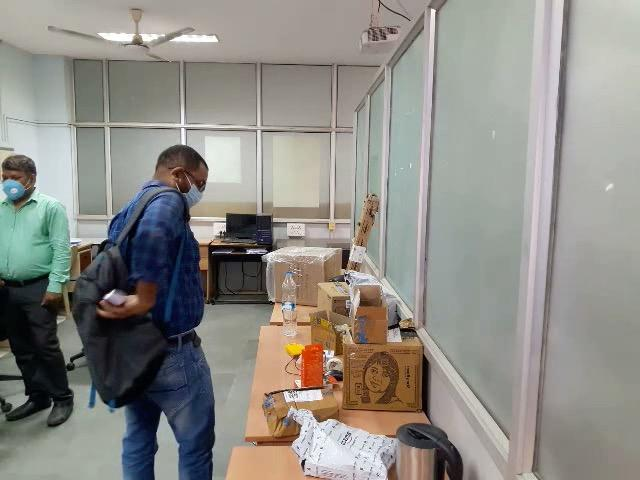shoplifting: (39, 248, 216, 412)
